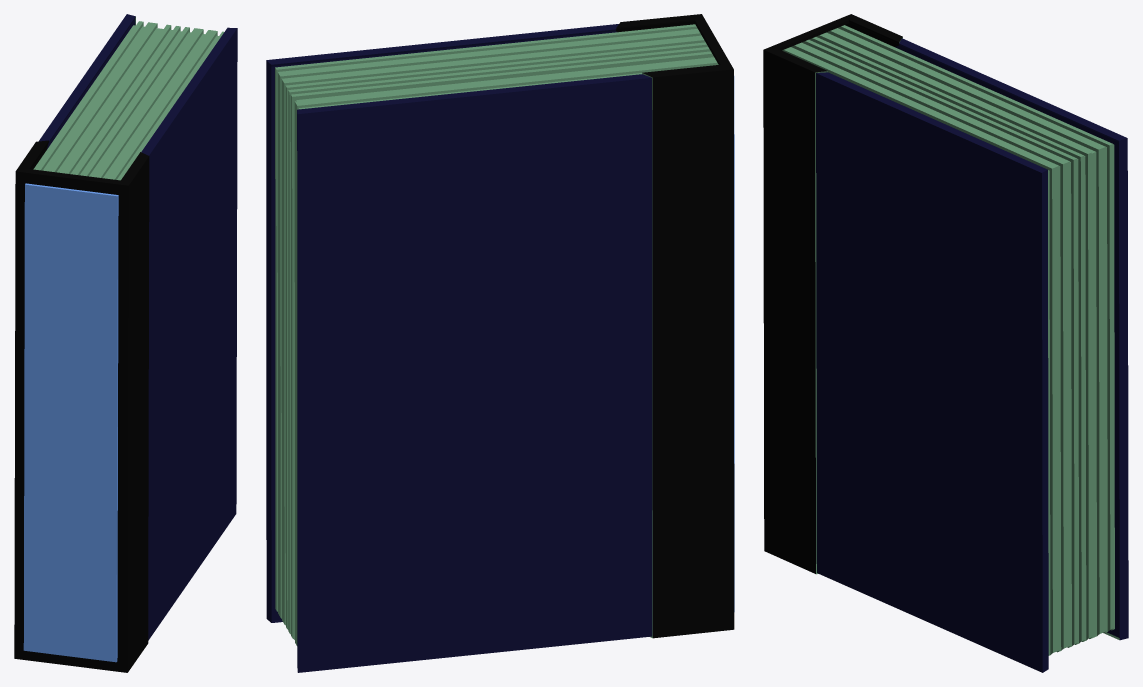
Rendered from SecondShelfBook3.fbx.
3 renders of one model, left to right at view 1: azimuth 30°, elevation 25°; view 2: azimuth 150°, elevation 25°; view 3: azimuth 270°, elevation 25°, orthographic. The views are drawn at different scales.
Parts seen in each view (by area): view 1: SmallBook.005; view 2: SmallBook.005; view 3: SmallBook.005.
Part boxes in pixels (<box>): SmallBook.005: <box>14,14,237,672</box>; SmallBook.005: <box>266,14,734,672</box>; SmallBook.005: <box>763,14,1128,672</box>.
Size of the model in its own units: 101 by 149 by 98.19.
